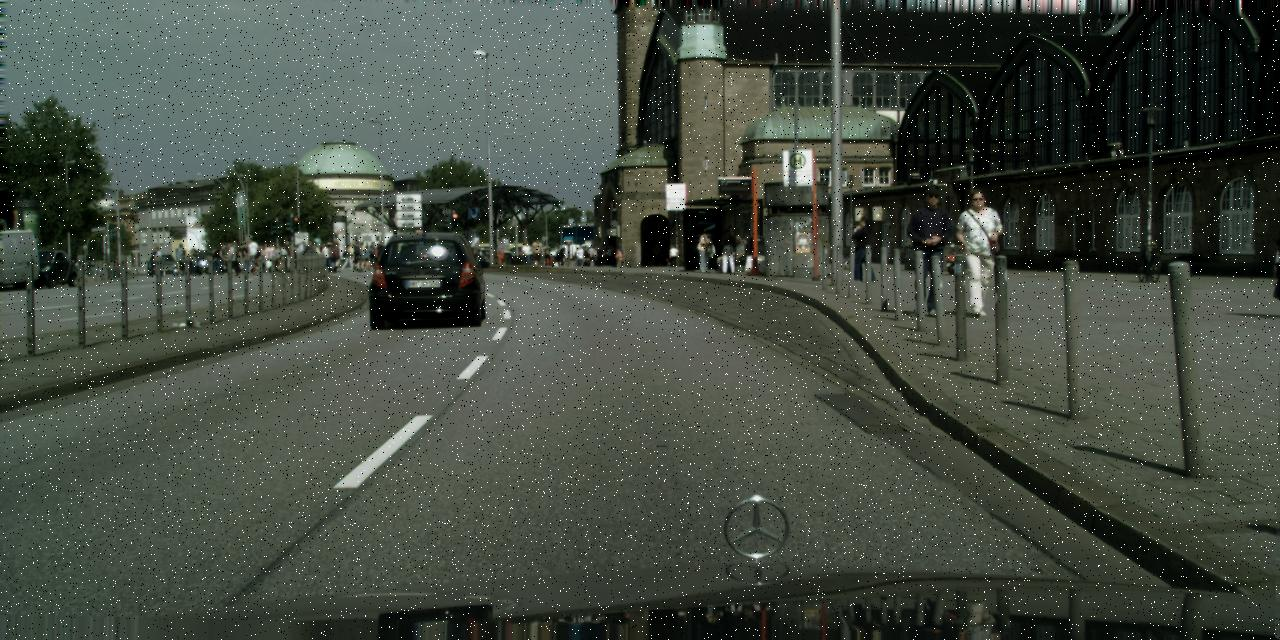ped: (903, 187, 955, 316), (952, 190, 1004, 316), (851, 216, 878, 281), (253, 242, 282, 274), (697, 228, 714, 271), (719, 230, 736, 272), (582, 245, 608, 267), (243, 237, 257, 271), (233, 242, 247, 276), (212, 242, 226, 274), (225, 242, 237, 274), (368, 241, 380, 272), (302, 240, 314, 271), (174, 243, 186, 274), (354, 241, 366, 271), (282, 240, 294, 270), (151, 246, 163, 276), (350, 240, 362, 270), (294, 241, 306, 271), (277, 241, 289, 271), (374, 240, 386, 268), (308, 242, 320, 270), (149, 247, 160, 276), (327, 242, 338, 270), (531, 238, 542, 265), (320, 242, 330, 270), (472, 240, 482, 266), (342, 243, 352, 268), (346, 242, 356, 266), (496, 240, 505, 264), (362, 246, 371, 268), (668, 243, 676, 266), (190, 255, 198, 275), (555, 246, 563, 264), (576, 246, 584, 264), (652, 244, 659, 264), (614, 249, 622, 266), (544, 245, 551, 264), (606, 246, 613, 264), (191, 249, 196, 255)
